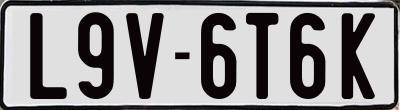6: (287, 10, 327, 98), (199, 11, 236, 101)
9: (75, 12, 112, 100)
K: (340, 12, 378, 99)
L: (27, 11, 67, 102)
T: (246, 13, 279, 102)
V: (124, 10, 165, 99)
